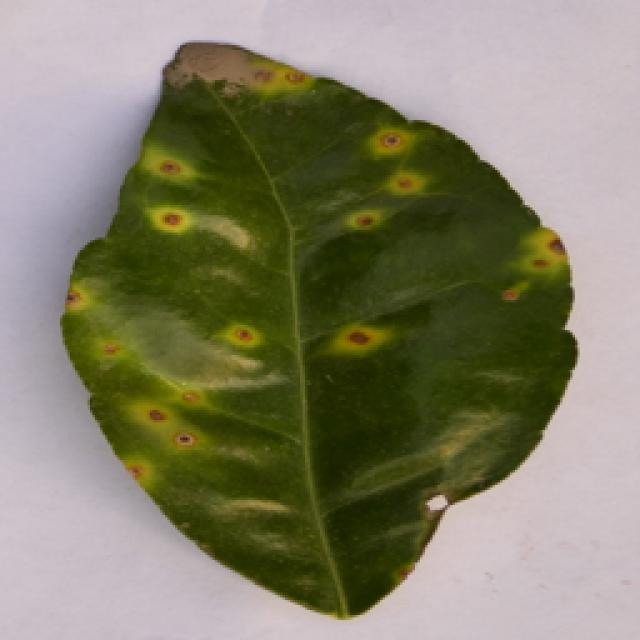canker: (56, 42, 566, 614)
